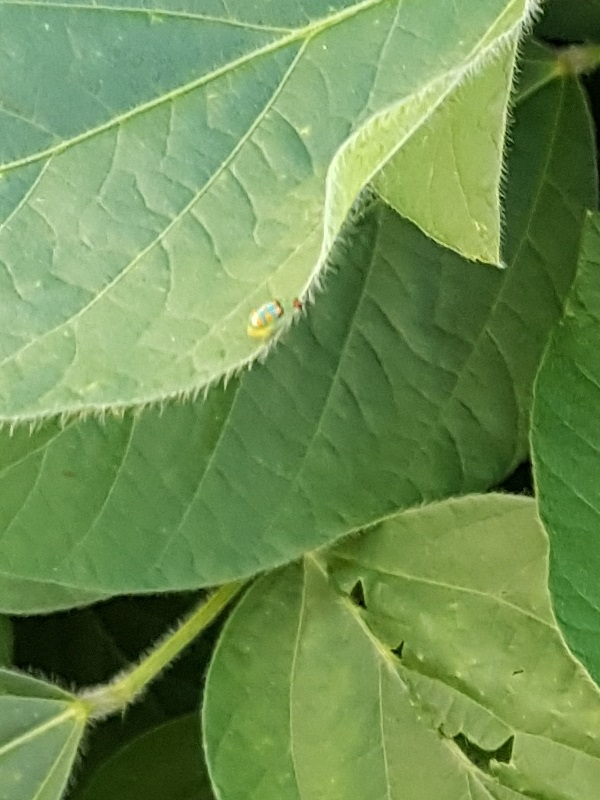Diabrotica_speciosa: (224, 275, 317, 370)
